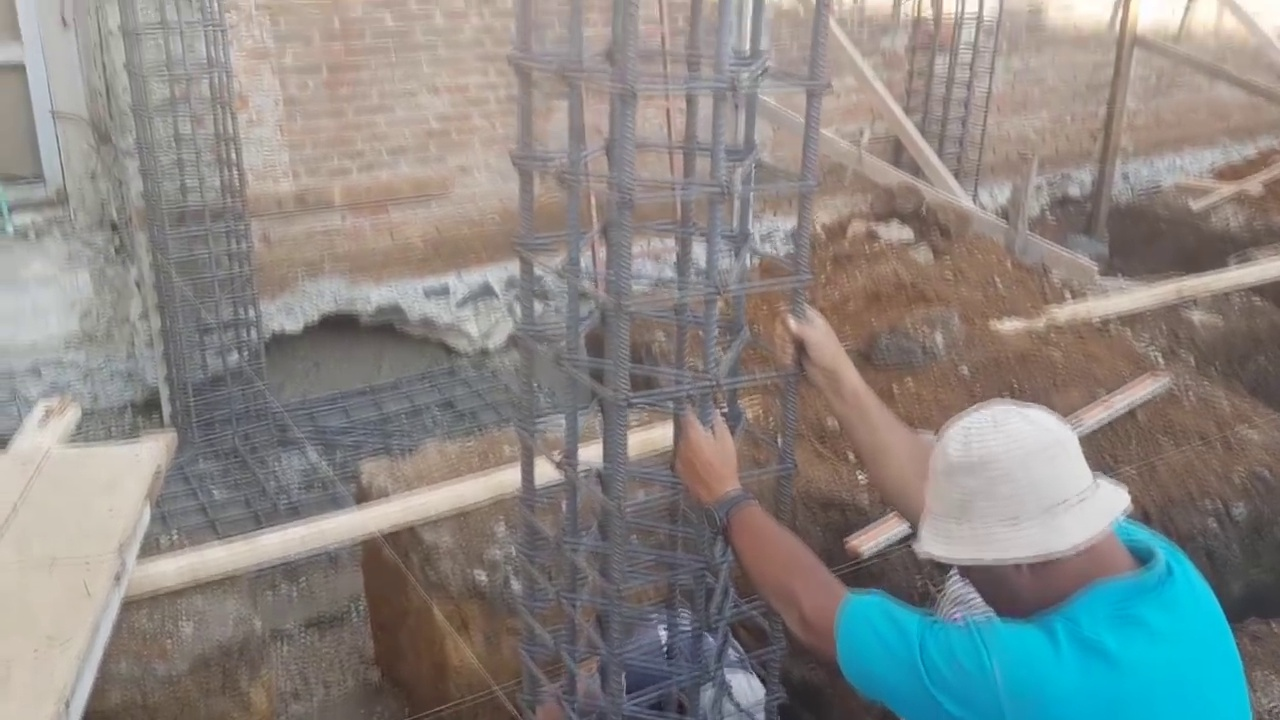helmet-off: (904, 387, 1164, 634)
person: (673, 300, 1251, 718)
